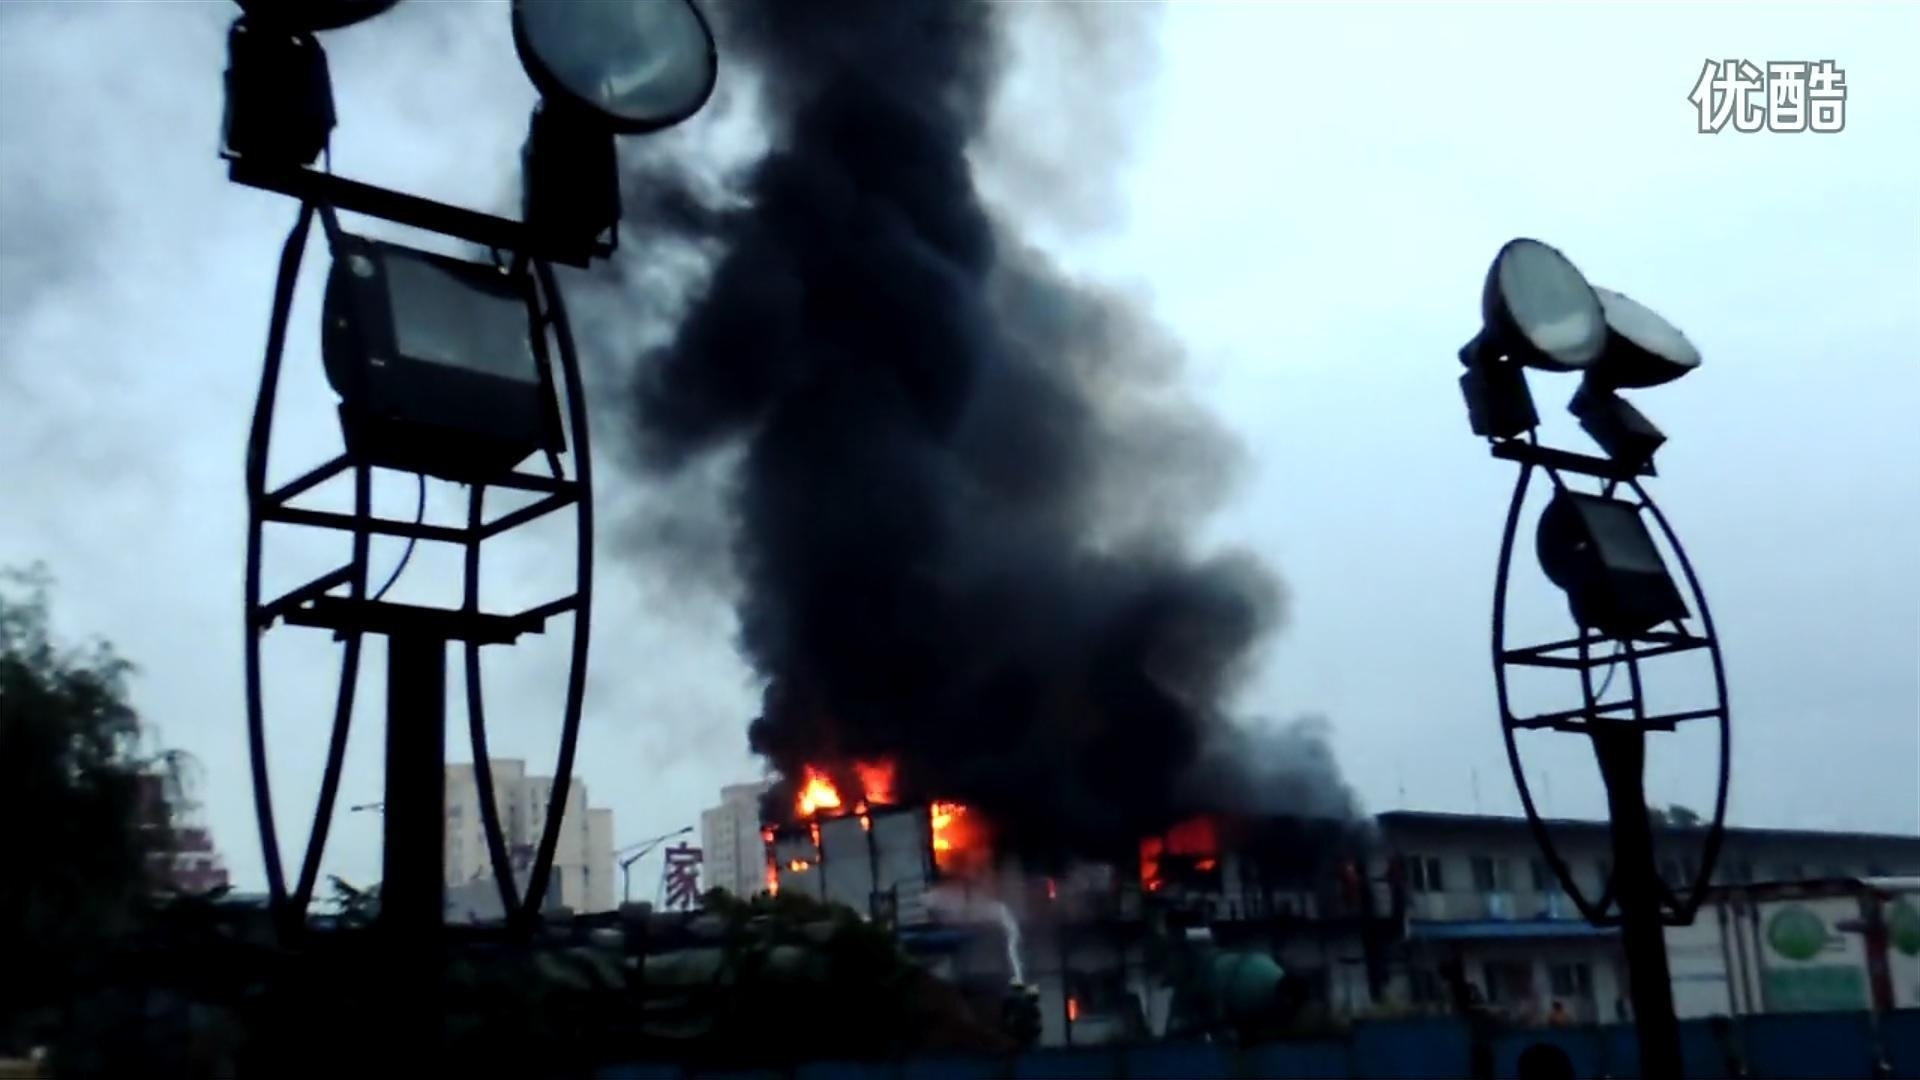fire: (758, 760, 914, 886)
